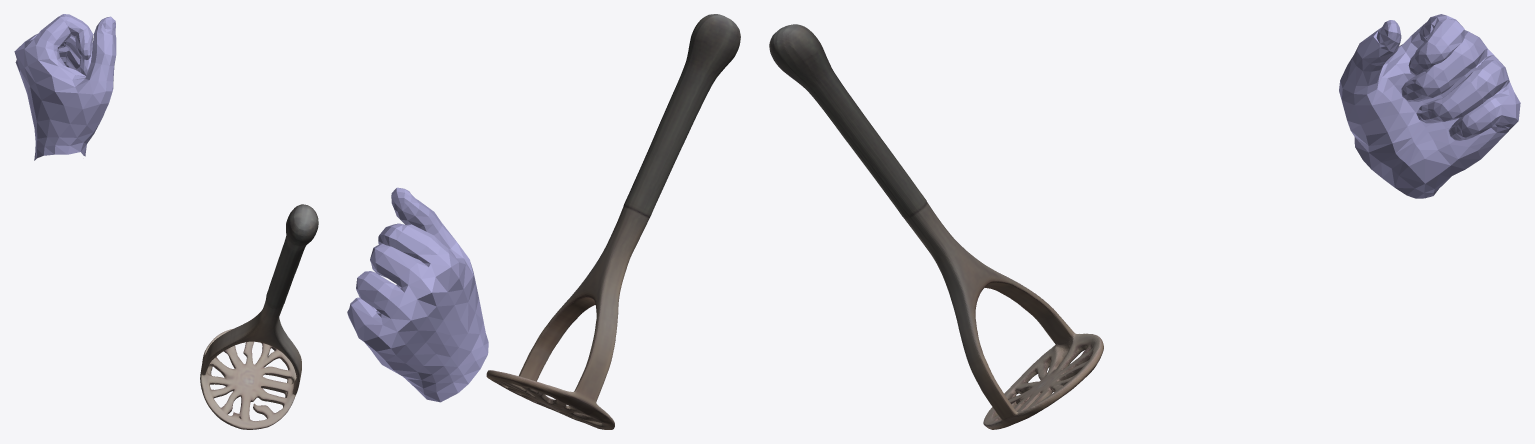
File: frame_0013_source_000013_hand_object.glb
The picture shows the model from 3 angles, left to right: view 1: azimuth 30°, elevation 25°; view 2: azimuth 150°, elevation 25°; view 3: azimuth 270°, elevation 25°; orthographic projection. The views are drawn at different scales.
Parts seen in each view (by area): view 1: world; view 2: world; view 3: world.
Boxes of the visible parts, x1=… form: world: x1=14, y1=14, x2=318, y2=429; world: x1=347, y1=14, x2=740, y2=429; world: x1=769, y1=14, x2=1520, y2=429.
Size of the model in its own units: 0.1039 by 0.2434 by 0.4149.
